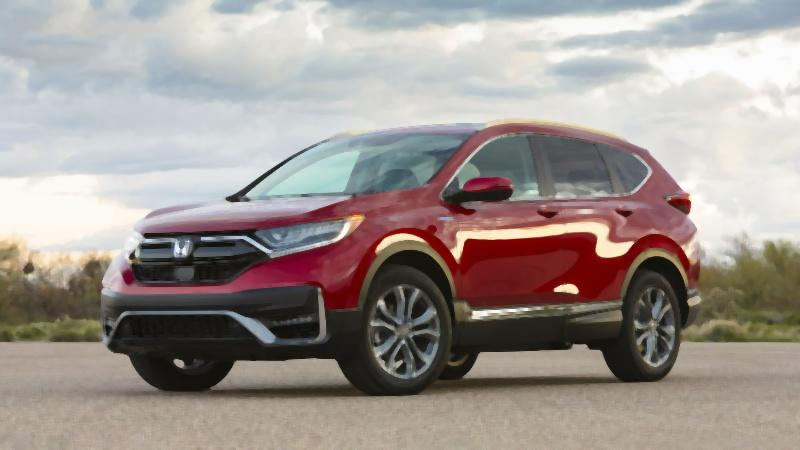Car hood: (129, 195, 411, 236)
Fender - -F-L-: (352, 182, 467, 326)
Fender - -R-L-: (622, 203, 712, 276)
Front bumper: (95, 241, 373, 366)
Headlight - -L-: (248, 210, 370, 262)
Headlight - -R-: (113, 222, 159, 260)
Passenger-s door - -F-L-: (453, 128, 558, 318)
Passenger-s door - -R-L-: (534, 123, 642, 316)
Rear bumper: (671, 241, 712, 333)
Rear light - -L-: (658, 177, 695, 223)
Side bumper - -L-: (446, 296, 630, 359)
Side mirror - -L-: (453, 173, 520, 212)
